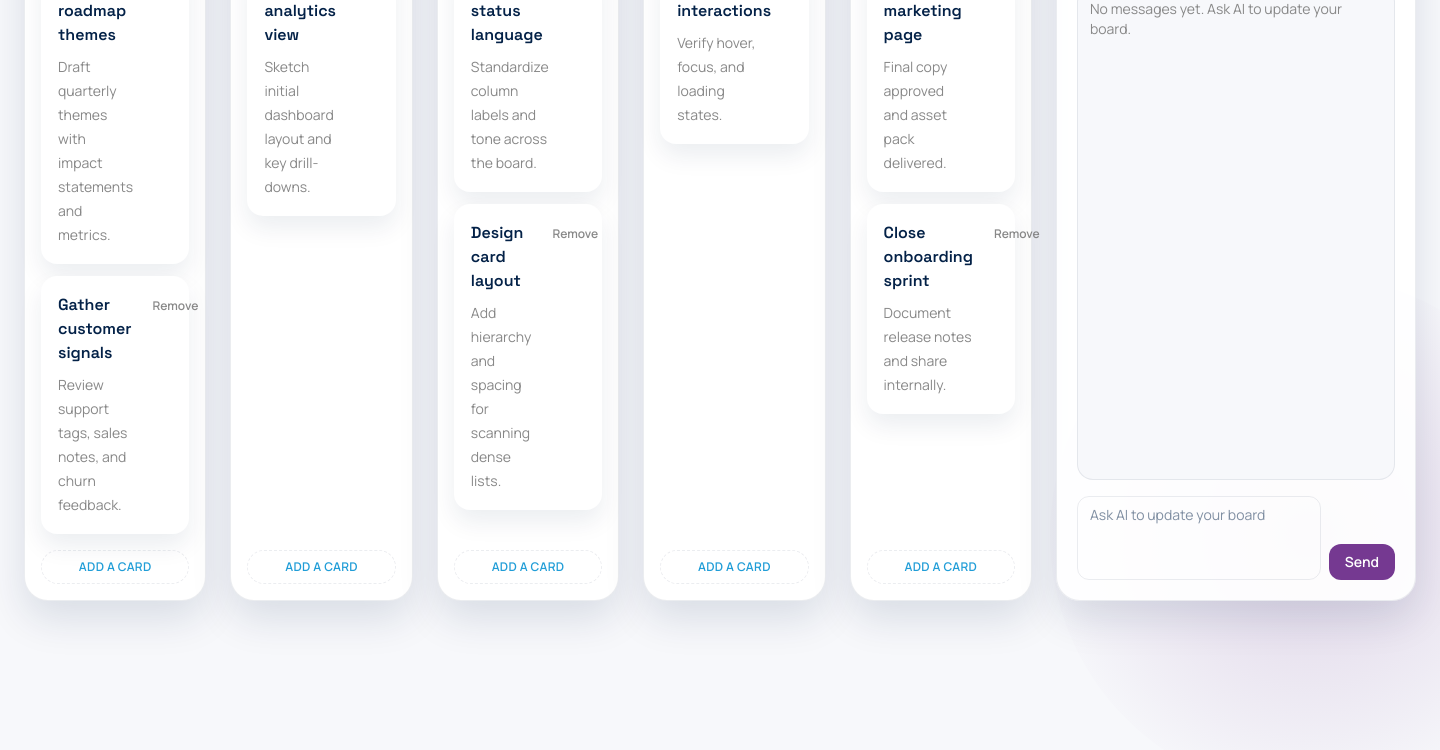
Scenario: KanbanBoard › applies board returned by ai chat response
(page scrolled)
In the text box with placeholder "Ask AI to update your board": (1199, 538) [1077,496,1321,580], type "Rename backlog"
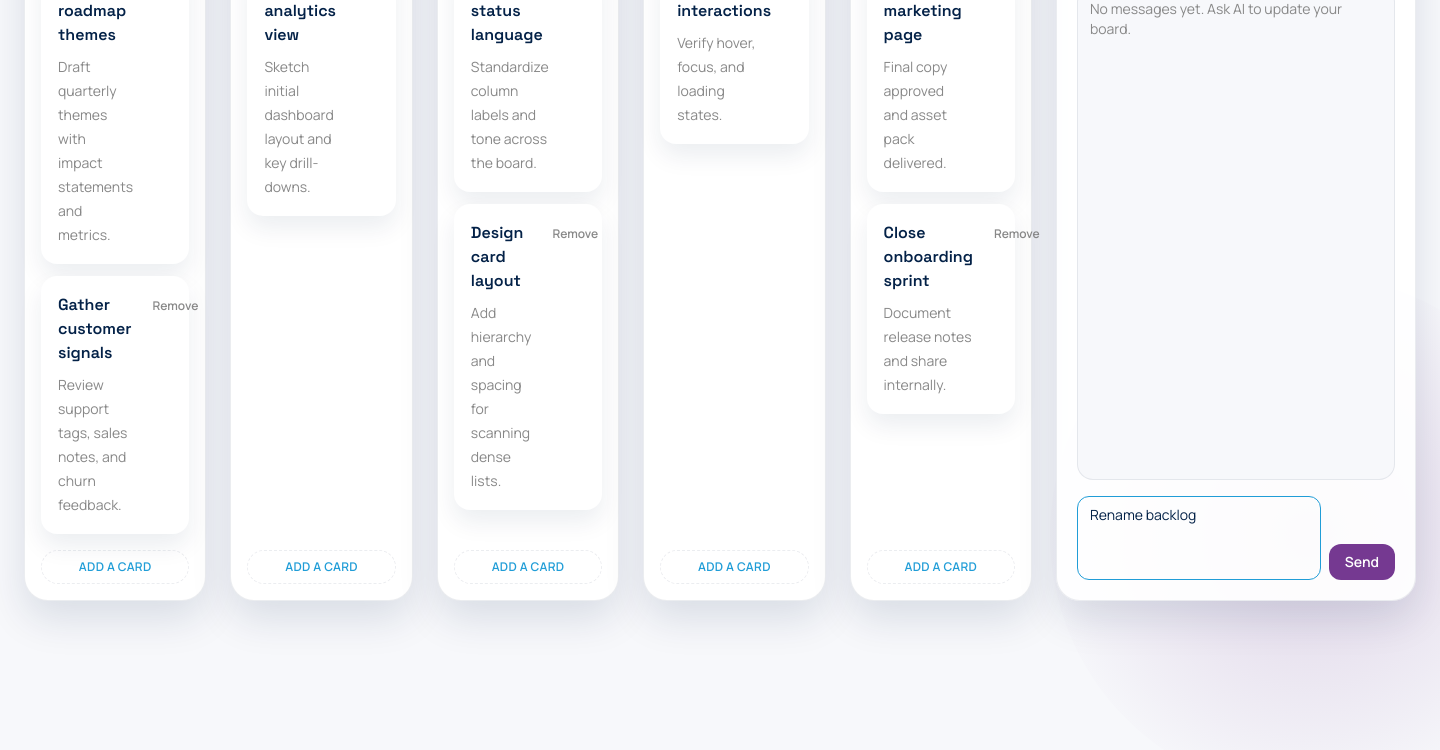
Click the button "Send": (1362, 562) [1329,544,1395,580]
(page scrolled)
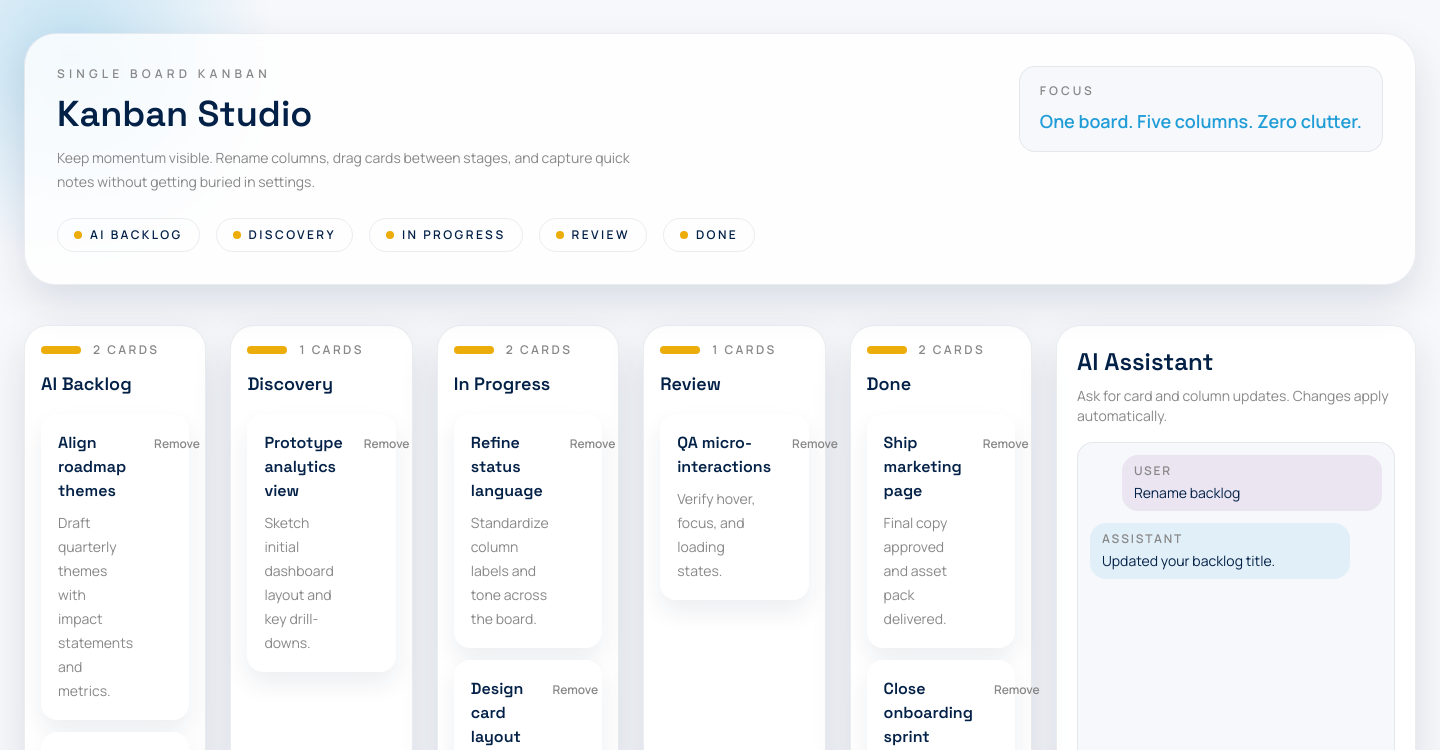
Result: the 1st field showing "AI Backlog" is shown at [41,370,189,398]
